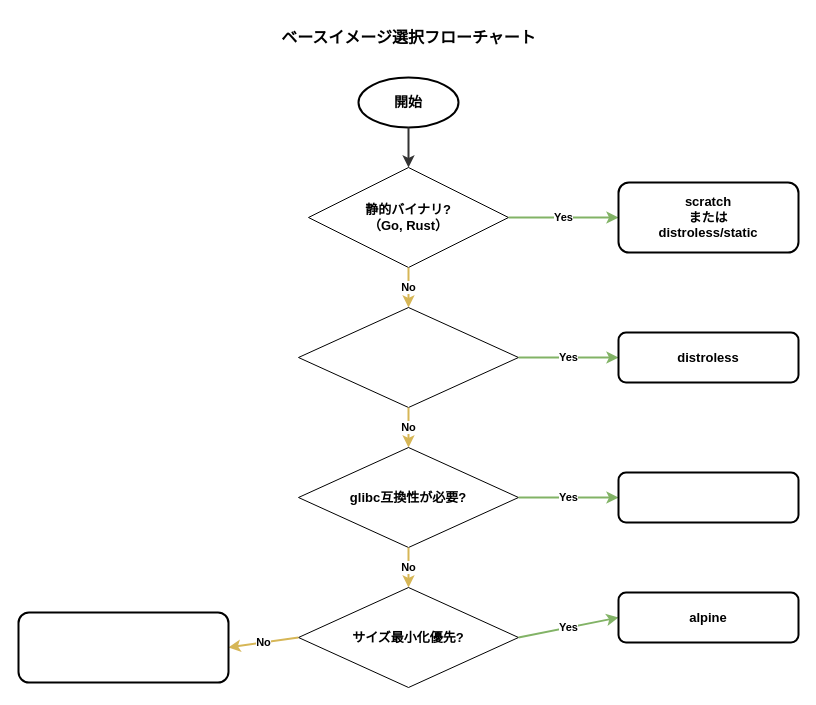
The diagram is 816 pixels wide and 705 high, and some of its shapes have lost their labels. Here are the shapes that lost their labels. From the top down, the centre of each, then its label:
At [408,357]: "セキュリティ最優先?".
At [708,497]: "debian-slim".
At [123,647]: "debian-slim または 公式言語イメージ-slim".
